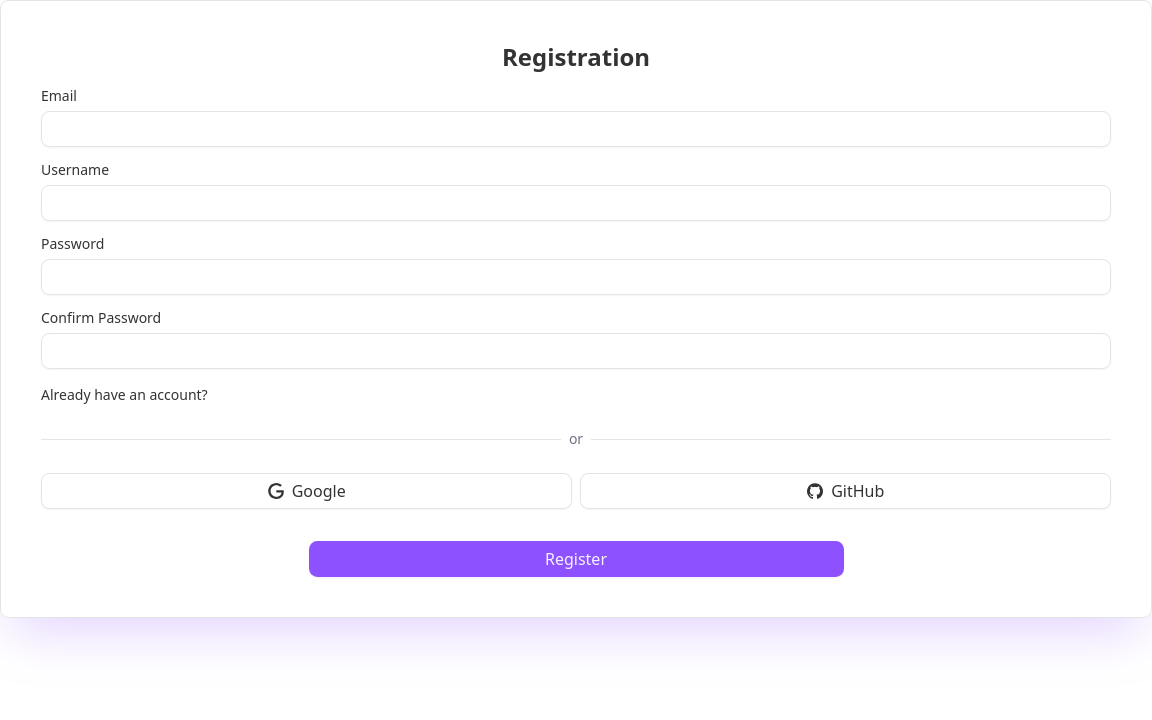
Scenario: RegistrationForm component test › Form validation › Should show required field when submitting empty form
The image size is (1152, 720).
Click the button with test id "registration-submit" at x=576, y=559, box [308,541,844,577]
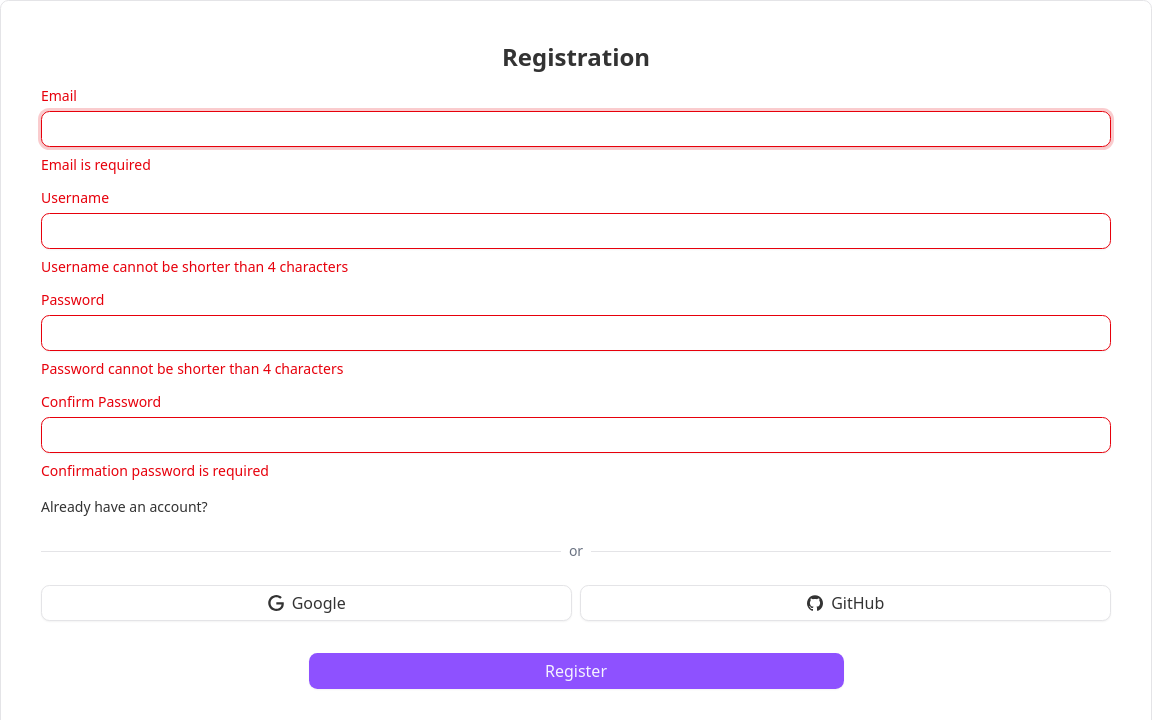
Now the text "Email is required" is shown, box [41,155,151,174]
Now the text "Username cannot be shorter than 4 characters" is shown, box [41,257,348,276]
Now the text "Password cannot be shorter than 4 characters" is shown, box [41,359,343,378]
